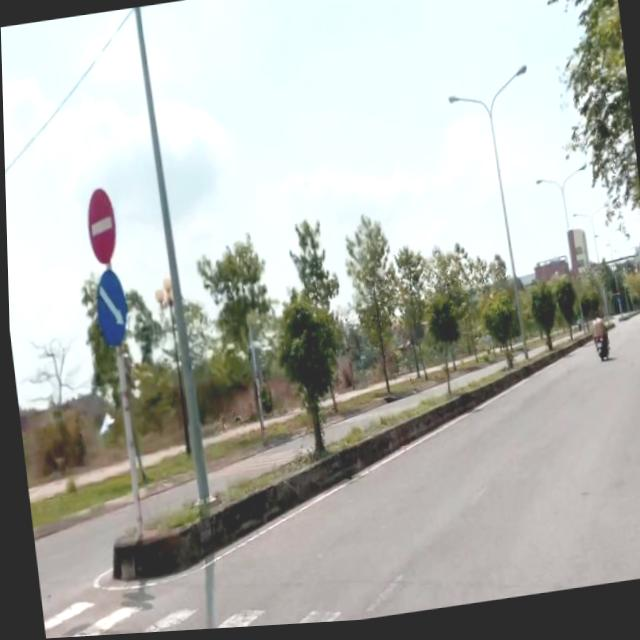Cam di nguoc chieu: (81, 185, 119, 270)
Vong chuong ngai vat sang phai: (87, 262, 130, 352)
